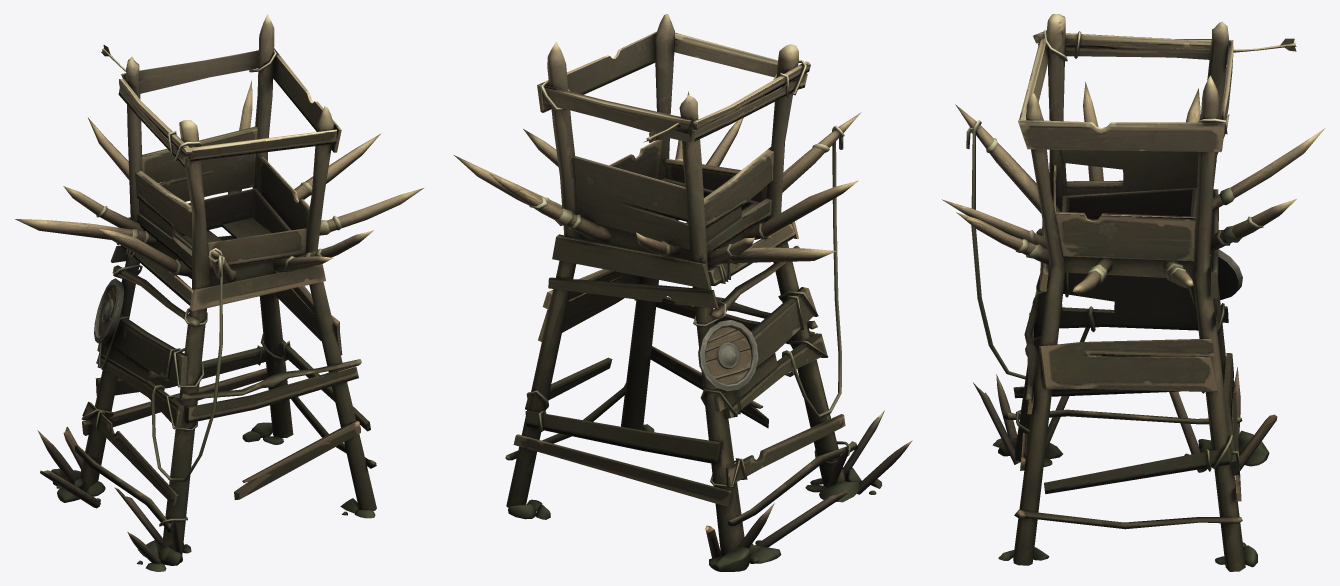
File: wooden_sentry_tower001.fbx
3 views of the same model, side by side, from view 1: azimuth 30°, elevation 25°; view 2: azimuth 150°, elevation 25°; view 3: azimuth 270°, elevation 25° (orthographic). The views are drawn at different scales.
Visible parts, largest first — view 1: wooden_sentry_tower001; view 2: wooden_sentry_tower001; view 3: wooden_sentry_tower001.
Boxes of the visible parts, x1,y1,x2,y2 form: wooden_sentry_tower001: (15, 14, 423, 571); wooden_sentry_tower001: (454, 14, 912, 571); wooden_sentry_tower001: (942, 14, 1324, 571).
Bounding box in the file's own units: 410 × 482 × 341.
